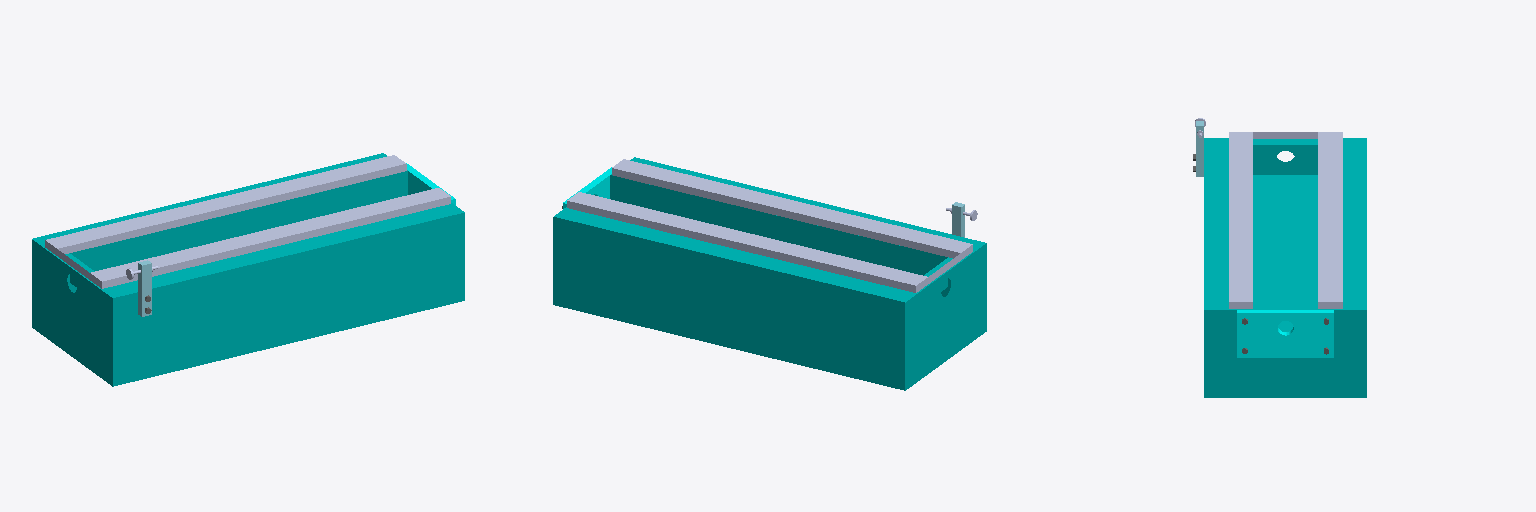
The picture shows the model from 3 angles: view 1: azimuth 30°, elevation 25°; view 2: azimuth 150°, elevation 25°; view 3: azimuth 270°, elevation 25°; orthographic projection.
Visible parts, largest first — view 1: NONE_DC_Shell, _2_2__DC_Shell, _2_1__DC_Shell; view 2: NONE_DC_Shell, _2_2__DC_Shell, _2_1__DC_Shell; view 3: NONE_DC_Shell, _2_2__DC_Shell, _2_1__DC_Shell.
Part boxes in pixels (left/top/right/bottom): NONE_DC_Shell: left=32, top=153, right=464, bottom=386; _2_2__DC_Shell: left=45, top=155, right=406, bottom=255; _2_1__DC_Shell: left=90, top=188, right=450, bottom=288; NONE_DC_Shell: left=553, top=157, right=986, bottom=390; _2_2__DC_Shell: left=567, top=192, right=927, bottom=292; _2_1__DC_Shell: left=612, top=159, right=972, bottom=259; NONE_DC_Shell: left=1193, top=118, right=1366, bottom=397; _2_2__DC_Shell: left=1318, top=132, right=1342, bottom=308; _2_1__DC_Shell: left=1229, top=132, right=1252, bottom=308.
Bounding box in the file's own units: 257 × 80 × 107.